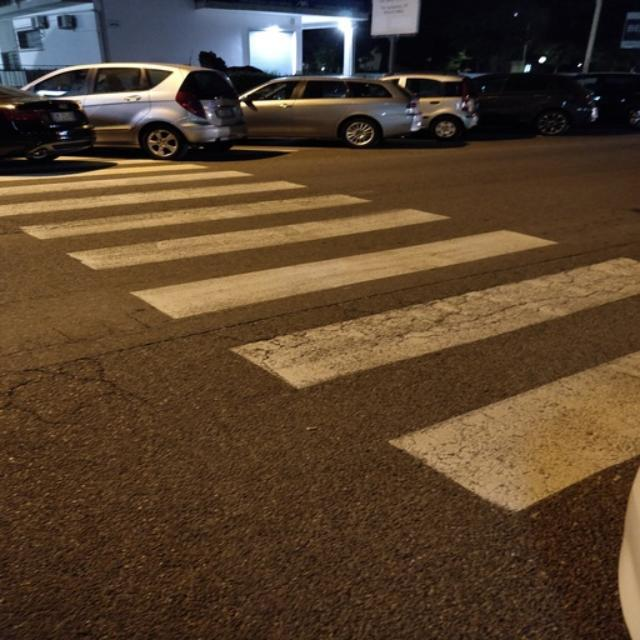sidewalk: (0, 155, 640, 600)
